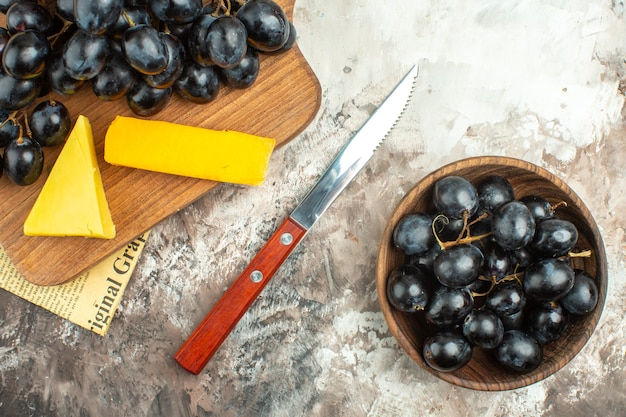knife: (174, 61, 423, 377)
